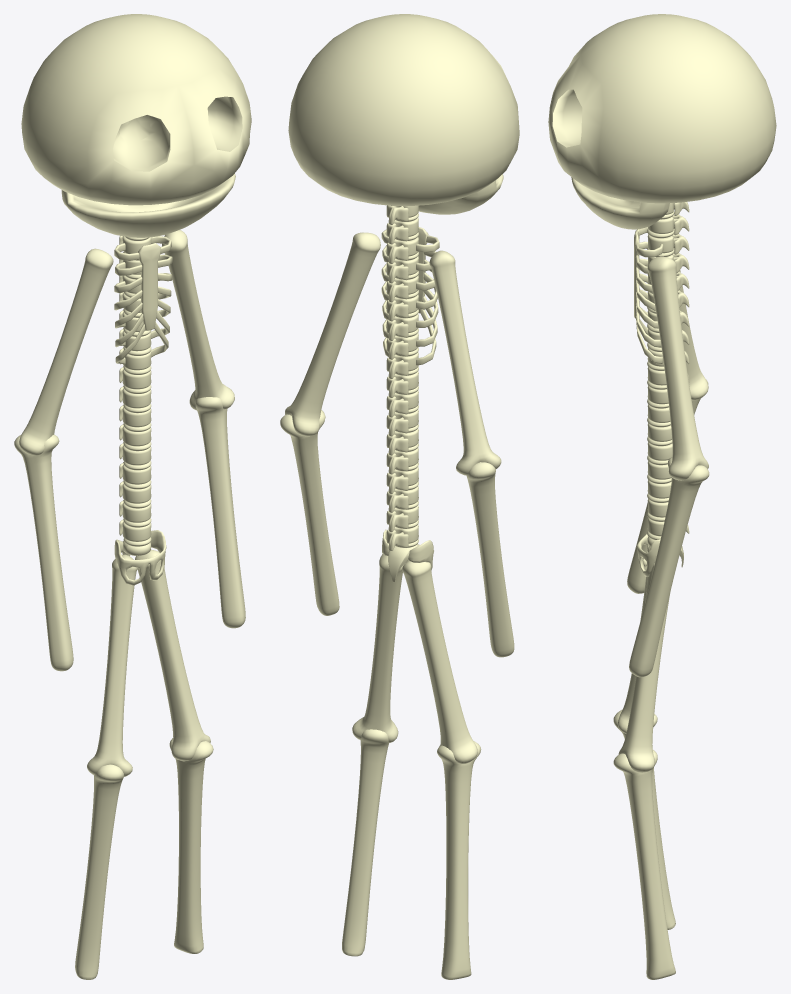
The model's file is Skeleton.fbx.
3 renders of one model, left to right at view 1: azimuth 30°, elevation 25°; view 2: azimuth 150°, elevation 25°; view 3: azimuth 270°, elevation 25°, orthographic.
Visible parts, largest first — view 1: Sphere, Cube.001, Cube.003, Cube.002, Cube.006, Cube.007, Cube.004, Cube.005, Sphere.001, Cube.014, Cube, Cylinder.001 (+2 smaller); view 2: Sphere, Cube.007, Cube, Cube.006, Cube.005, Cube.002, Cube.003, Cube.001, Cube.004, Cube.008, Cube.014, Cylinder.016 (+5 smaller); view 3: Sphere, Cube, Cube.006, Cube.001, Cube.004, Cylinder.001, Sphere.001, Cube.014, Cylinder.016, Cube.007, Cube.002, Cube.008 (+4 smaller).
Part boxes in pixels (x1=…): Sphere: x1=21, y1=14, x2=251, y2=205; Cube.001: x1=195, y1=397, x2=245, y2=628; Cube.003: x1=14, y1=434, x2=73, y2=671; Cube.002: x1=19, y1=248, x2=113, y2=455; Cube.006: x1=169, y1=738, x2=213, y2=953; Cube.007: x1=75, y1=764, x2=124, y2=979; Cube.004: x1=135, y1=549, x2=210, y2=761; Cube.005: x1=87, y1=554, x2=137, y2=776; Sphere.001: x1=61, y1=173, x2=235, y2=237; Cube.014: x1=114, y1=236, x2=172, y2=364; Cube: x1=162, y1=230, x2=234, y2=410; Cylinder.001: x1=122, y1=407, x2=151, y2=546; Sphere: x1=288, y1=14, x2=519, y2=205; Cube.007: x1=437, y1=741, x2=481, y2=979; Cube: x1=285, y1=232, x2=380, y2=436; Cube.006: x1=342, y1=729, x2=388, y2=956; Cube.005: x1=402, y1=561, x2=477, y2=763; Cube.002: x1=429, y1=250, x2=501, y2=475; Cube.003: x1=466, y1=462, x2=514, y2=657; Cube.001: x1=280, y1=410, x2=339, y2=615; Cube.004: x1=352, y1=554, x2=404, y2=742; Cube.008: x1=386, y1=242, x2=408, y2=417; Cube.014: x1=381, y1=227, x2=439, y2=365; Cylinder.016: x1=393, y1=237, x2=418, y2=413; Sphere: x1=548, y1=14, x2=776, y2=203; Cube: x1=647, y1=256, x2=708, y2=480; Cube.006: x1=613, y1=750, x2=675, y2=979; Cube.001: x1=629, y1=456, x2=709, y2=677; Cube.004: x1=618, y1=563, x2=670, y2=772; Cylinder.001: x1=647, y1=404, x2=672, y2=539; Sphere.001: x1=571, y1=177, x2=669, y2=229; Cube.014: x1=634, y1=227, x2=663, y2=363; Cylinder.016: x1=647, y1=234, x2=674, y2=408; Cube.007: x1=613, y1=709, x2=675, y2=929; Cube.002: x1=674, y1=229, x2=708, y2=400; Cube.008: x1=673, y1=233, x2=689, y2=382.
Size of the model in its own units: 98.52 by 92.59 by 415.
